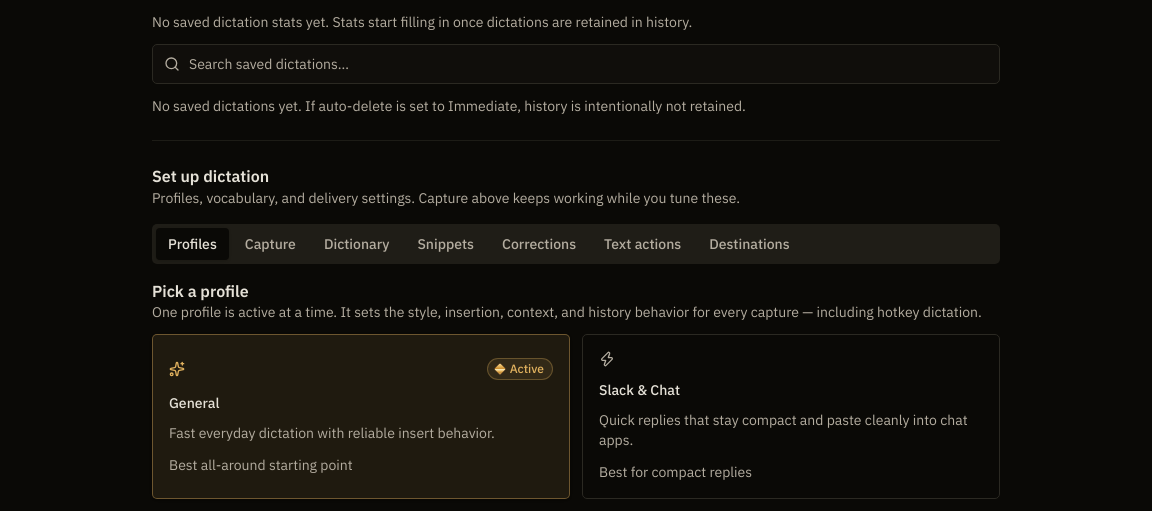
Test: DictationView modes › offers only the two insertion behaviors that actually differ
(page scrolled)
Press the mouse on the tab "Capture": (270, 244) [233,228,308,260]
(page scrolled)
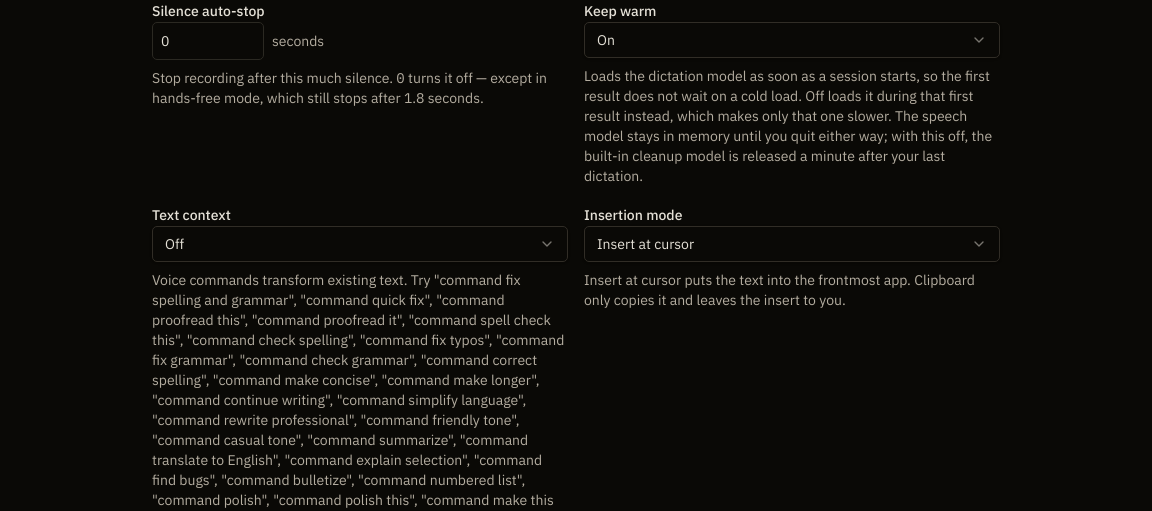
Click the dropdown named "Insertion mode": (646, 244) [584,226,1000,262]
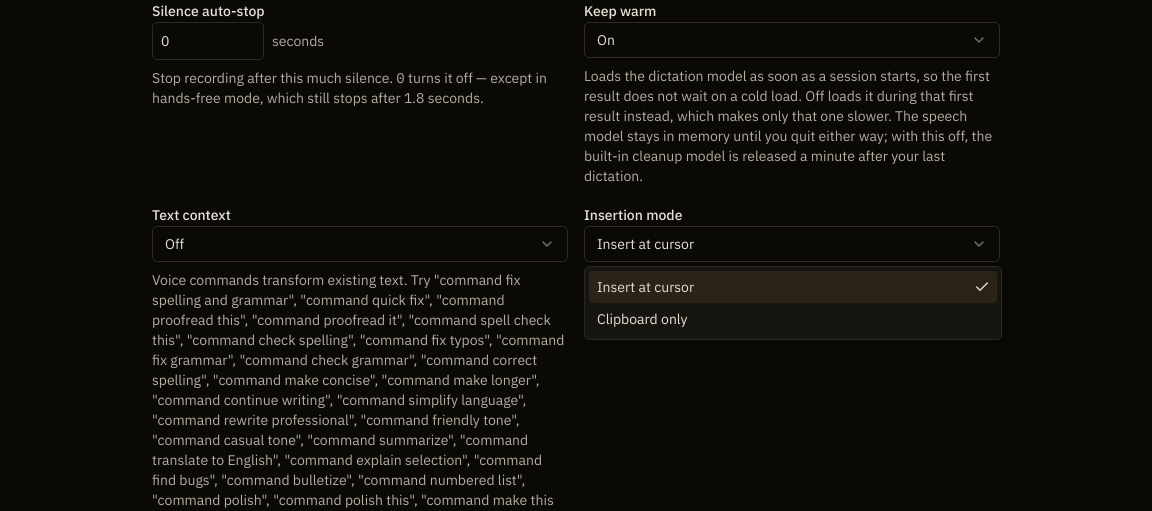
Now the options read "Insert at cursor", "Clipboard only", in this order, box [589,271,997,303]; [597,310,688,328]
